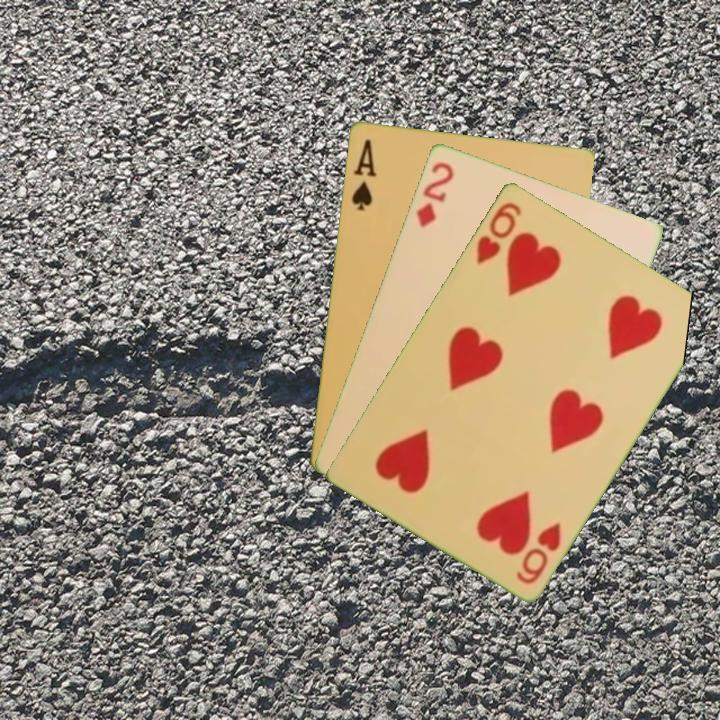2d: (412, 157, 457, 230)
6h: (472, 197, 524, 268), (512, 518, 564, 587)
As: (347, 135, 379, 213)
